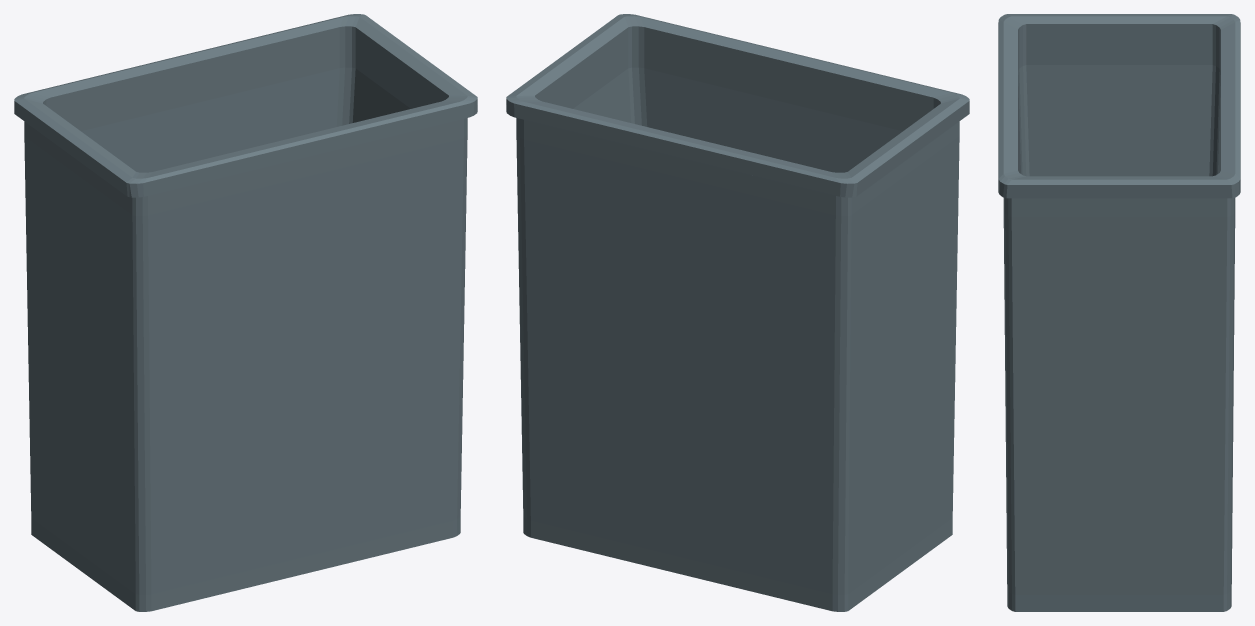
File: bin_everything_v1.fbx
3 renders of one model, left to right at view 1: azimuth 30°, elevation 25°; view 2: azimuth 150°, elevation 25°; view 3: azimuth 270°, elevation 25°, orthographic.
Parts seen in each view (by area): view 1: Cube; view 2: Cube; view 3: Cube.
Boxes of the visible parts, <box> form: Cube: <box>14,14,477,611</box>; Cube: <box>506,14,969,611</box>; Cube: <box>998,14,1240,611</box>.
Bounding box in the file's own units: 208 × 247 × 124.
